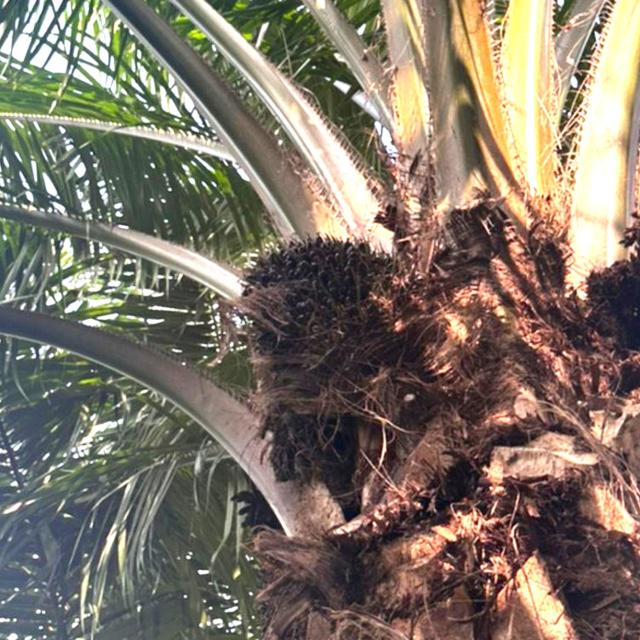unripe: (230, 226, 412, 375)
